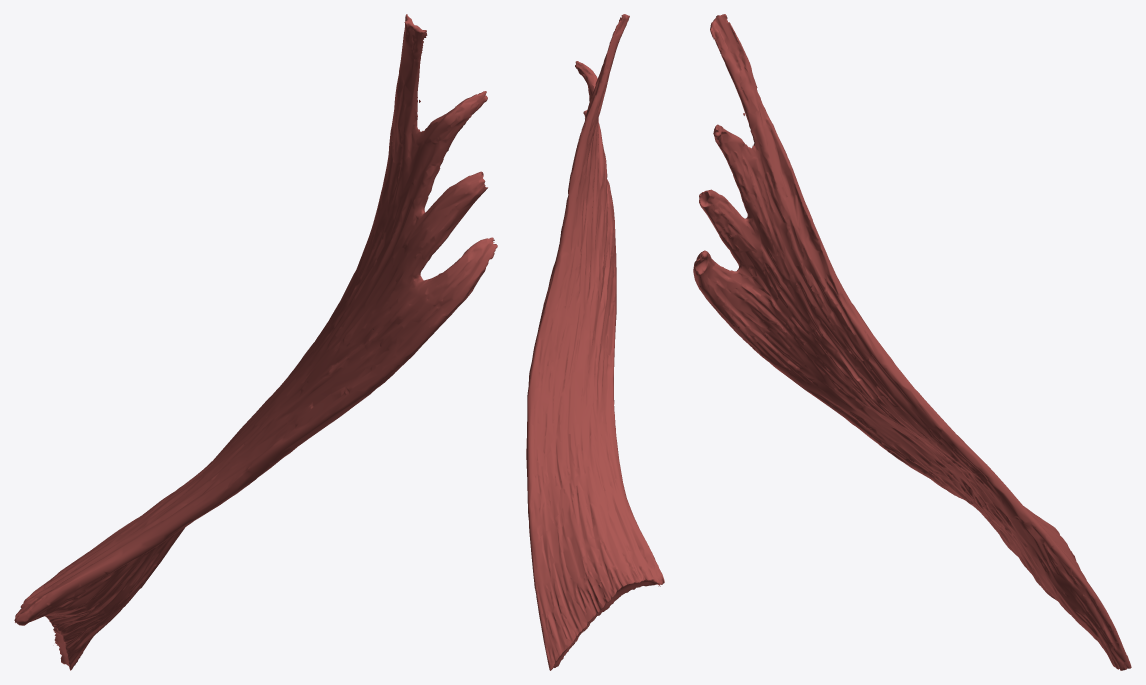
File: FMA32540.glb
3 views of the same model, side by side, from view 1: azimuth 30°, elevation 25°; view 2: azimuth 150°, elevation 25°; view 3: azimuth 270°, elevation 25° (orthographic). The views are drawn at different scales.
Parts seen in each view (by area): view 1: FMA32540; view 2: FMA32540; view 3: FMA32540.
Boxes of the visible parts, <box> form: FMA32540: <box>14,14,497,670</box>; FMA32540: <box>526,14,664,670</box>; FMA32540: <box>693,14,1131,670</box>.
Size of the model in its own units: 0.0595 by 0.148 by 0.0831.
